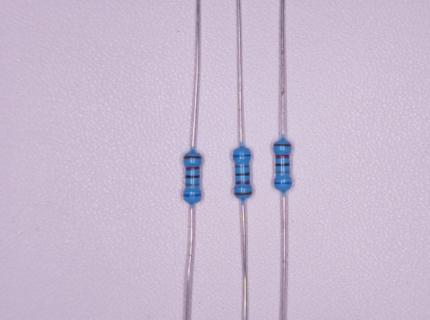Black band: (275, 163, 290, 167), (235, 173, 250, 176), (186, 175, 200, 178)
Blue band: (232, 154, 251, 157), (274, 182, 292, 185), (183, 194, 201, 197)
Brown band: (184, 155, 202, 159), (273, 143, 291, 147), (234, 192, 252, 195)
Grey band: (185, 183, 199, 186), (235, 165, 249, 168), (276, 171, 290, 174)
Red band: (186, 166, 200, 170), (236, 180, 250, 184), (276, 154, 290, 158)
